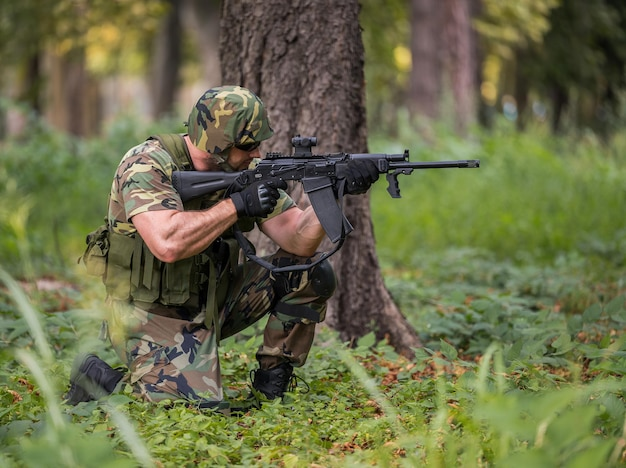gun: (171, 136, 482, 244)
